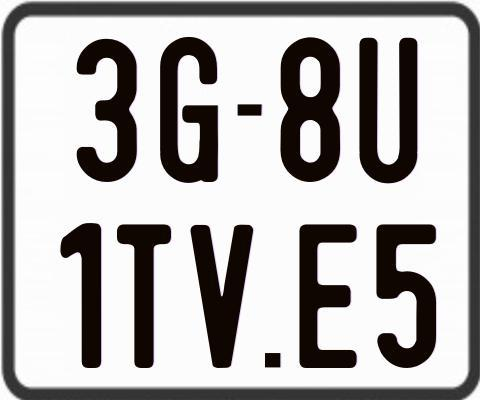1: (59, 223, 103, 371)
3: (74, 36, 136, 183)
5: (373, 223, 439, 372)
8: (279, 36, 342, 186)
E: (298, 224, 362, 373)
G: (157, 36, 219, 188)
T: (115, 224, 172, 373)
U: (357, 35, 419, 180)
V: (189, 223, 253, 369)
